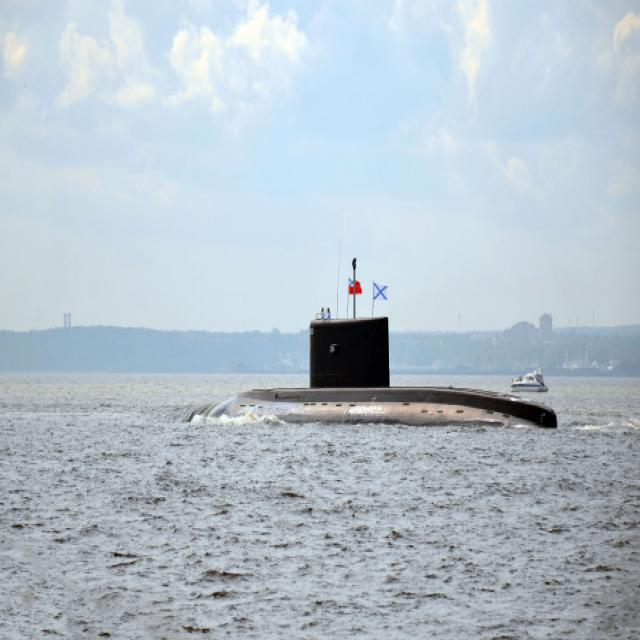submarine: (182, 310, 570, 433)
